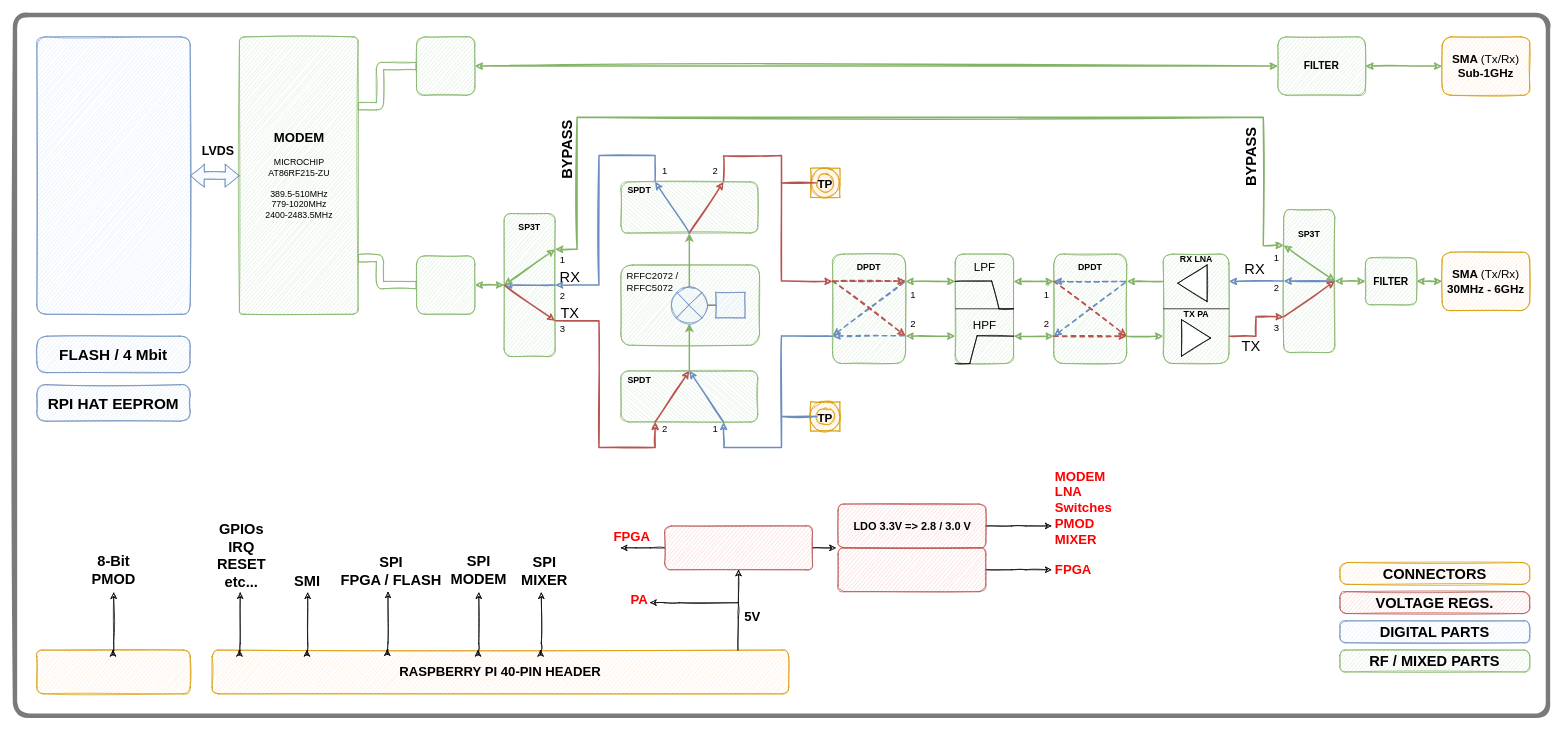
Some shapes in this 1562 by 730 pixel diagram are drawn without their labels. Each missing label, with the centre of its shape:
"BALUN 2.4GHz" belongs at (445,284).
"BALUN Sub1GHz" belongs at (445,65).
"DC-DC 5V => 3.3V" belongs at (738,547).
"FPGA Lattice Semiconductors ICE40LP1K-QN84" belongs at (113,175).
"LDO 3.3V => 1.2 V" belongs at (911,569).
"LO" belongs at (730,305).
"PMOD 8-Bit Connector" belongs at (113,671).
